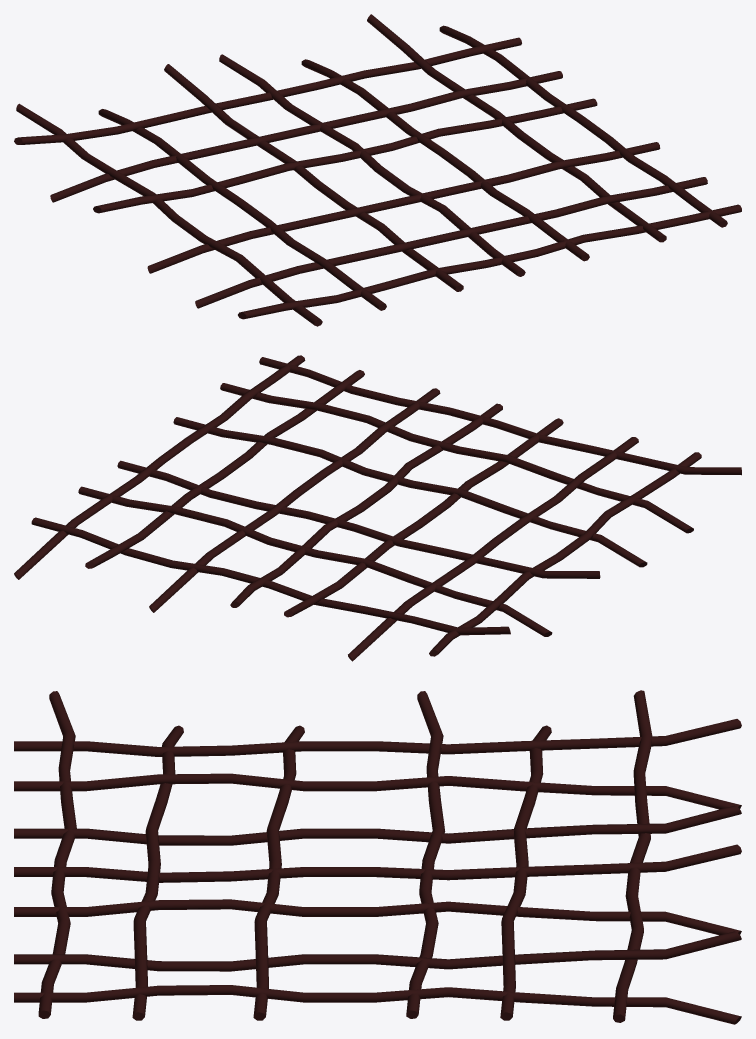
Rendered from P_GrillePourMurCassé.fbx.
The picture shows the model from 3 angles, top to bottom: view 1: azimuth 30°, elevation 25°; view 2: azimuth 150°, elevation 25°; view 3: azimuth 270°, elevation 25°; orthographic projection. The views are drawn at different scales.
Parts seen in each view (by area): view 1: P_GrillePourMurCassé; view 2: P_GrillePourMurCassé; view 3: P_GrillePourMurCassé.
Part boxes in pixels (x1,y1,x2,y2): P_GrillePourMurCassé: (14, 14, 741, 326); P_GrillePourMurCassé: (14, 355, 741, 661); P_GrillePourMurCassé: (14, 690, 741, 1024).
Bounding box in the file's own units: 379 × 26.39 × 374.
